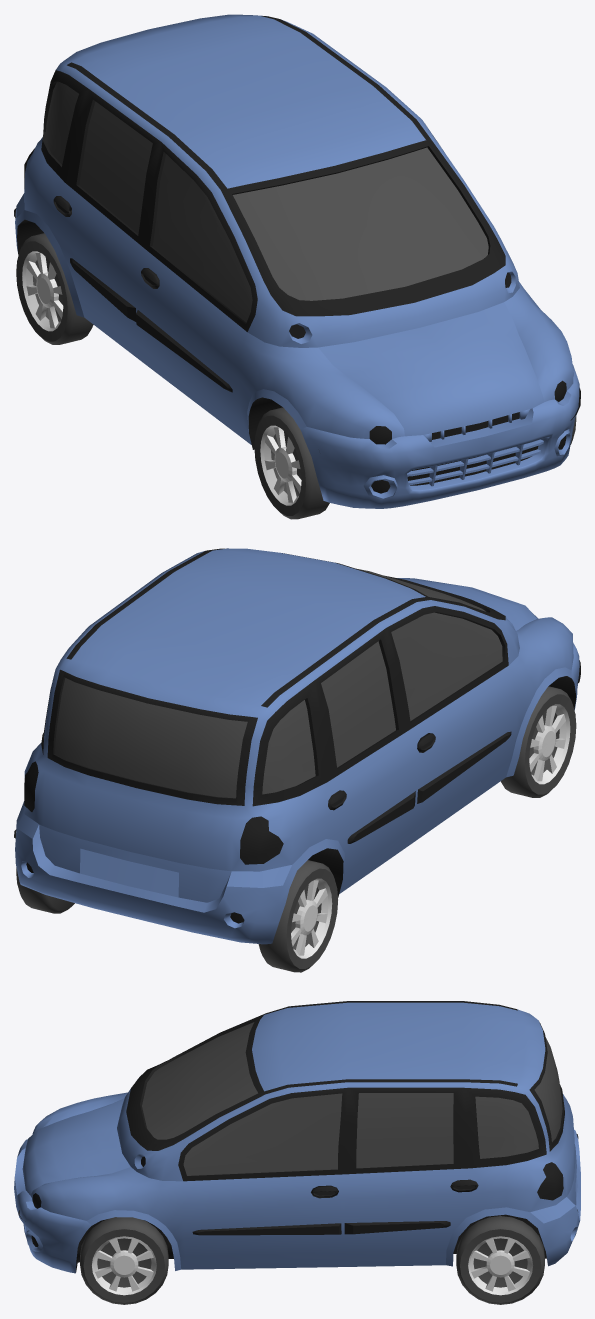
The model's file is fiat_multipla_low_poly.glb.
3 renders of one model, top to bottom at view 1: azimuth 30°, elevation 25°; view 2: azimuth 150°, elevation 25°; view 3: azimuth 270°, elevation 25°, orthographic. The views are drawn at different scales.
Visible parts, largest first — view 1: car, Fl, Rl; view 2: car, Rl, Fl, Rr; view 3: car, Rr, Fr.
Part boxes in pixels (x1=…): car: x1=14, y1=14, x2=580, y2=508; Fl: x1=254, y1=407, x2=329, y2=519; Rl: x1=16, y1=233, x2=93, y2=344; car: x1=14, y1=548, x2=580, y2=944; Rl: x1=258, y1=860, x2=337, y2=972; Fl: x1=501, y1=686, x2=576, y2=797; Rr: x1=16, y1=867, x2=74, y2=913; car: x1=14, y1=1001, x2=580, y2=1273; Rr: x1=456, y1=1216, x2=544, y2=1304; Fr: x1=80, y1=1217, x2=168, y2=1304.
Size of the model in its own units: 2.89 by 2.63 by 6.25.
